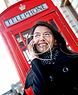phone: (26, 36, 38, 54)
